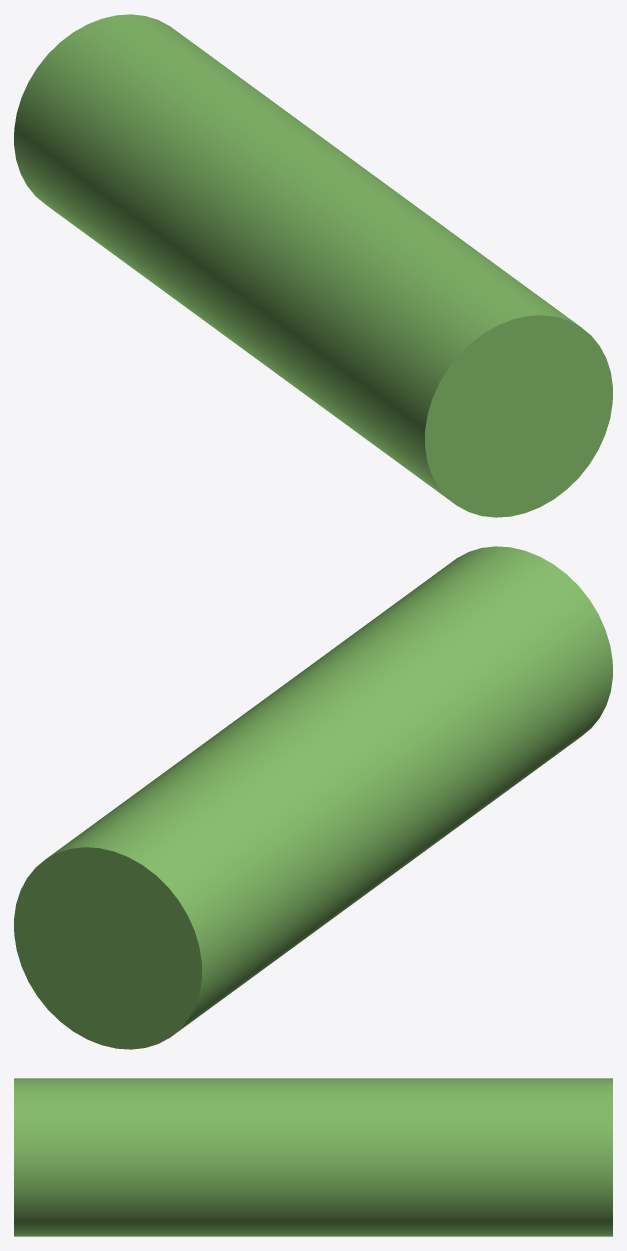
File: body40_visual.obj
3 renders of one model, top to bottom at view 1: azimuth 30°, elevation 25°; view 2: azimuth 150°, elevation 25°; view 3: azimuth 270°, elevation 25°, orthographic. The views are drawn at different scales.
Parts seen in each view (by area): view 1: Body40; view 2: Body40; view 3: Body40.
Boxes of the visible parts, x1,y1,x2,y2 form: Body40: (14,14,612,517); Body40: (14,546,612,1049); Body40: (14,1078,612,1236).
Bounding box in the file's own units: 1.8 × 1.8 × 6.8.
